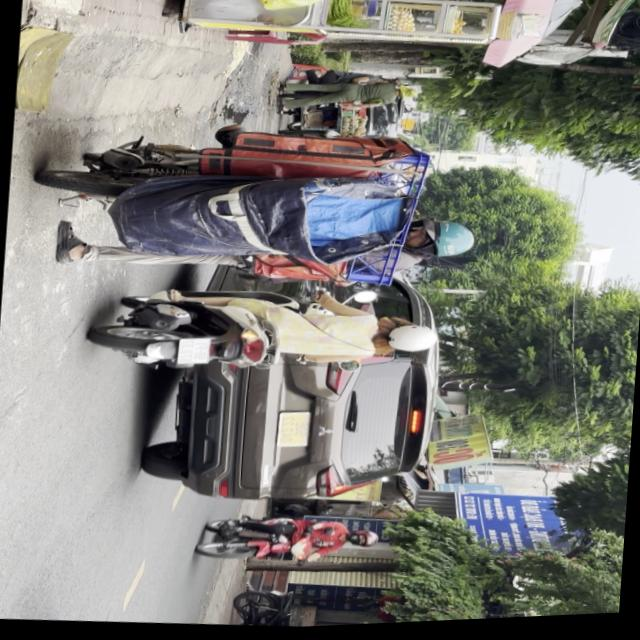helmet: (374, 323, 438, 360), (347, 532, 380, 552)
licenseplate: (88, 271, 444, 393), (196, 507, 381, 575)
nohelmet: (177, 336, 211, 367)
